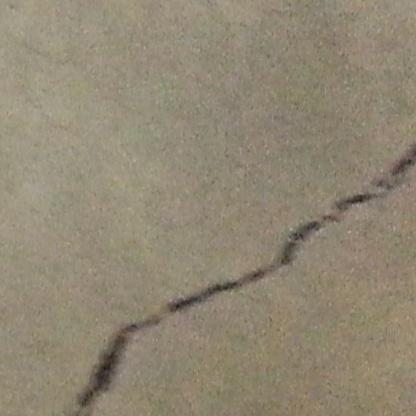Cracks: (72, 134, 416, 416)
